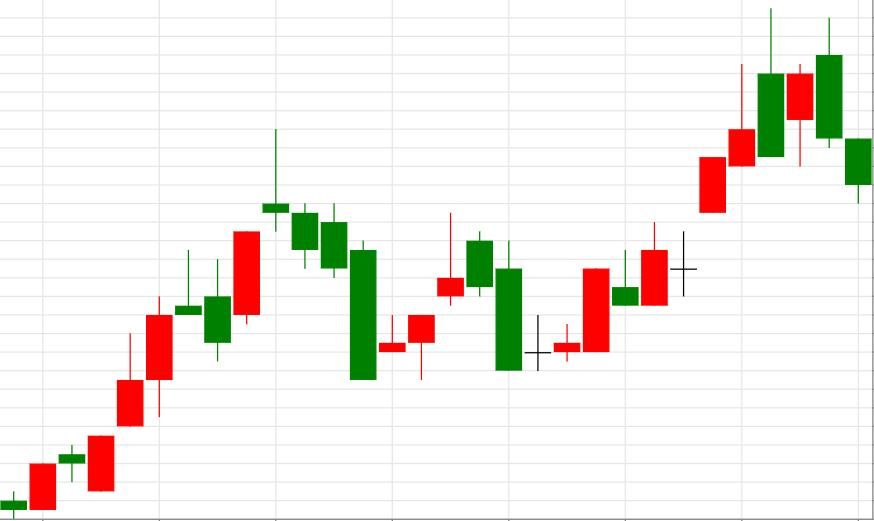evening_star_fall: (29, 129, 318, 511)
